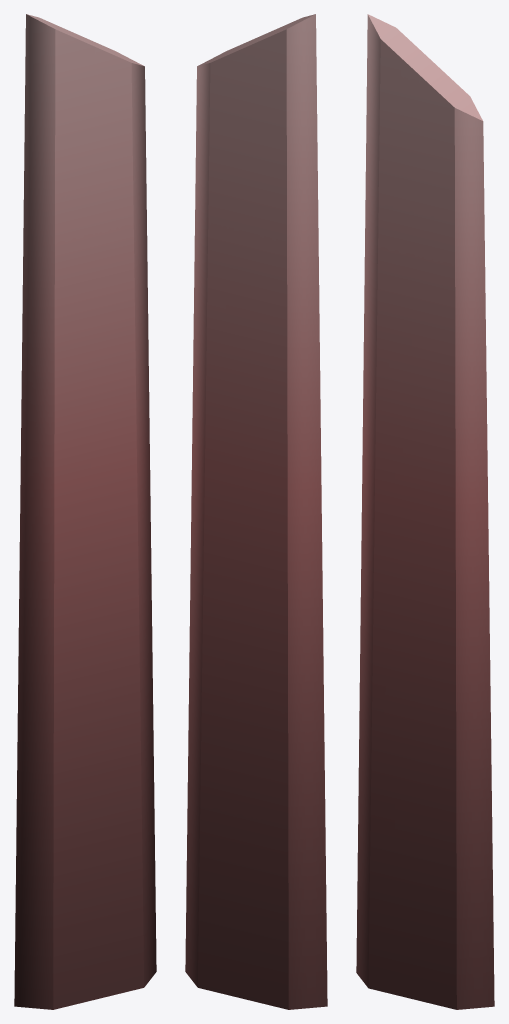
File: Blade_Two.fbx
The picture shows the model from 3 angles, left to right: view 1: azimuth 30°, elevation 25°; view 2: azimuth 150°, elevation 25°; view 3: azimuth 330°, elevation 25°; orthographic projection. The views are drawn at different scales.
Visible parts, largest first — view 1: Blade_Two; view 2: Blade_Two; view 3: Blade_Two.
Part boxes in pixels (<box>): Blade_Two: <box>14,14,156,1009</box>; Blade_Two: <box>185,14,327,1009</box>; Blade_Two: <box>356,14,494,1009</box>.
Bounding box in the file's own units: 1.56 × 10.39 × 0.503.
